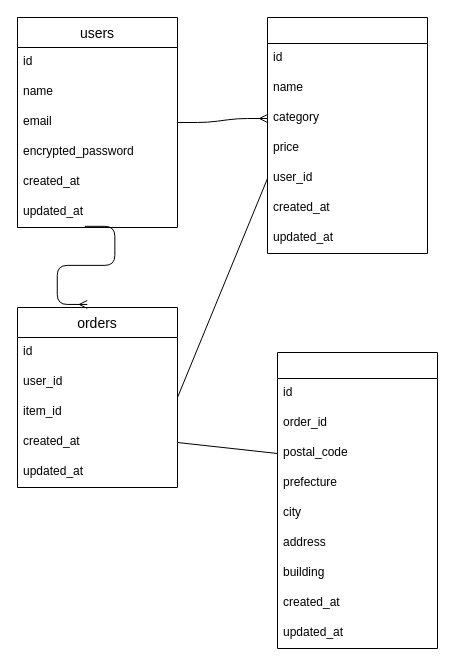
This 455x669 diagram has some shape labels left out. Here are the shapes that lost their labels. From the top down, the box of each, then its label:
(266, 16, 428, 254): items
(276, 352, 438, 648): addresses
